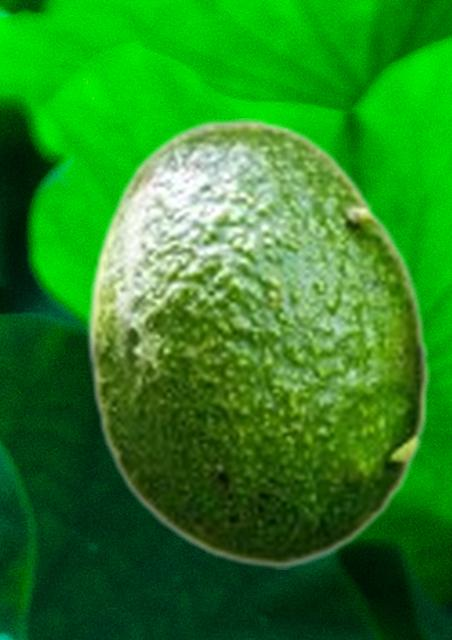avocado: (84, 118, 430, 568)
